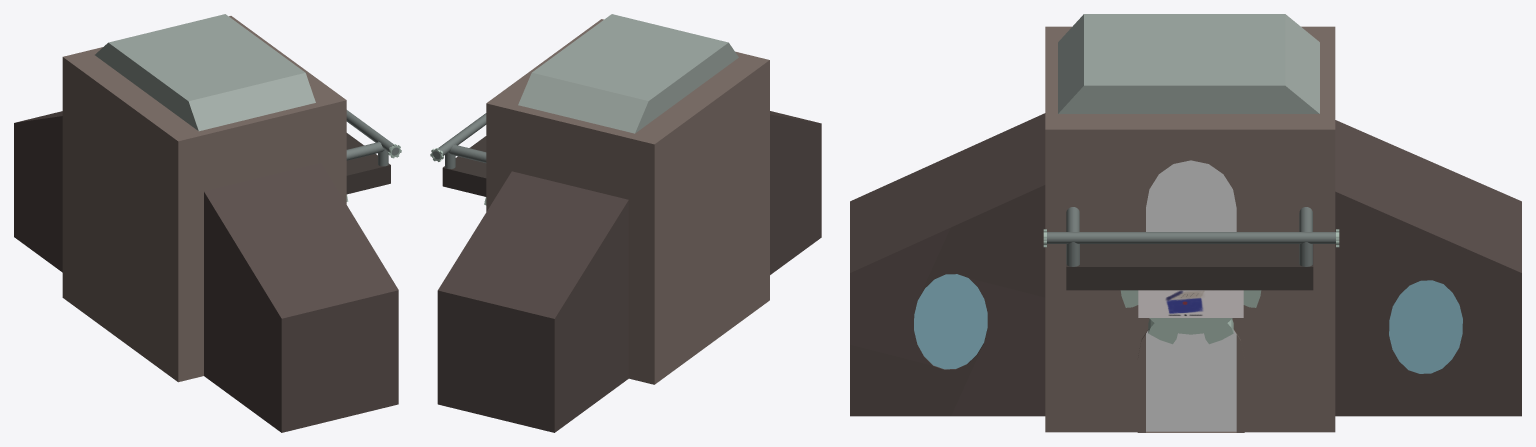
File: Building24.fbx
3 views of the same model, side by side, from view 1: azimuth 30°, elevation 25°; view 2: azimuth 150°, elevation 25°; view 3: azimuth 270°, elevation 25° (orthographic). The views are drawn at different scales.
Visible parts, largest first — view 1: post; view 2: post; view 3: post.
Part boxes in pixels (left/top/right/bottom): post: left=14, top=14, right=401, bottom=432; post: left=430, top=14, right=821, bottom=432; post: left=850, top=14, right=1521, bottom=432.
Size of the model in its own units: 668 by 755 by 1389.
Materials: 9 (1 with a texture image).
